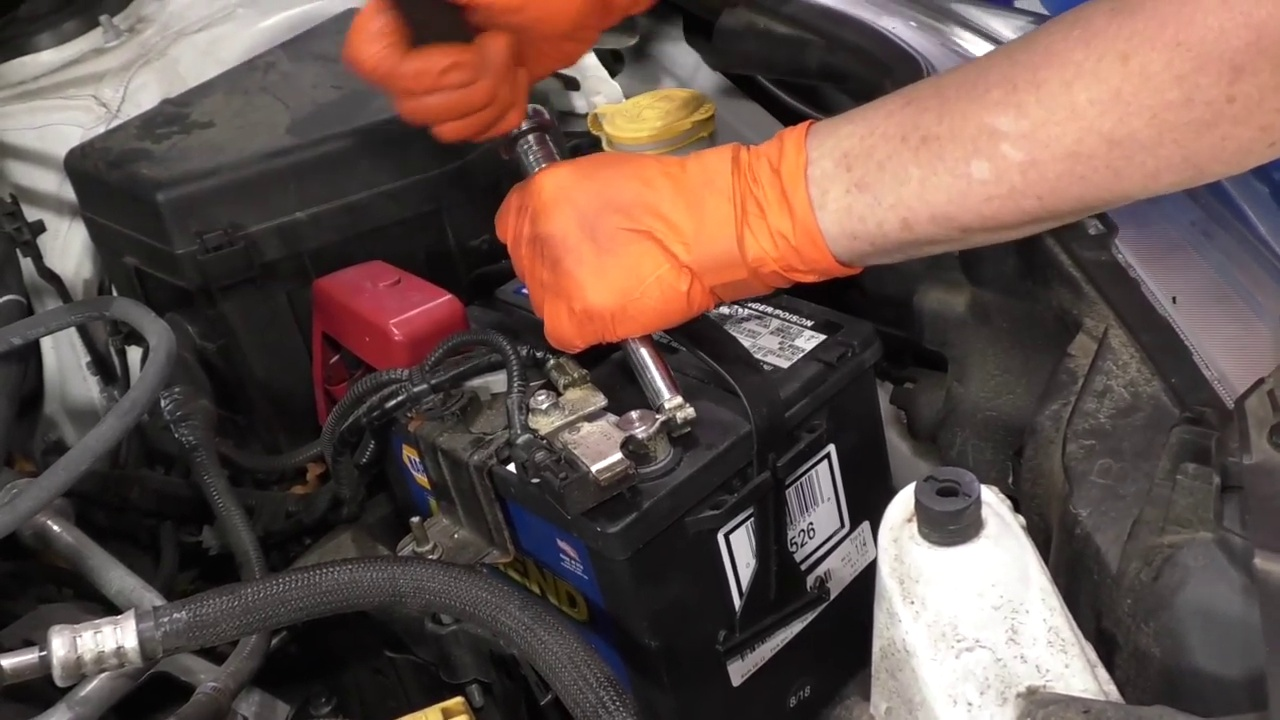battery: (351, 227, 875, 527)
neg_connected: (552, 392, 690, 498)
pos_connected: (287, 241, 485, 462)
